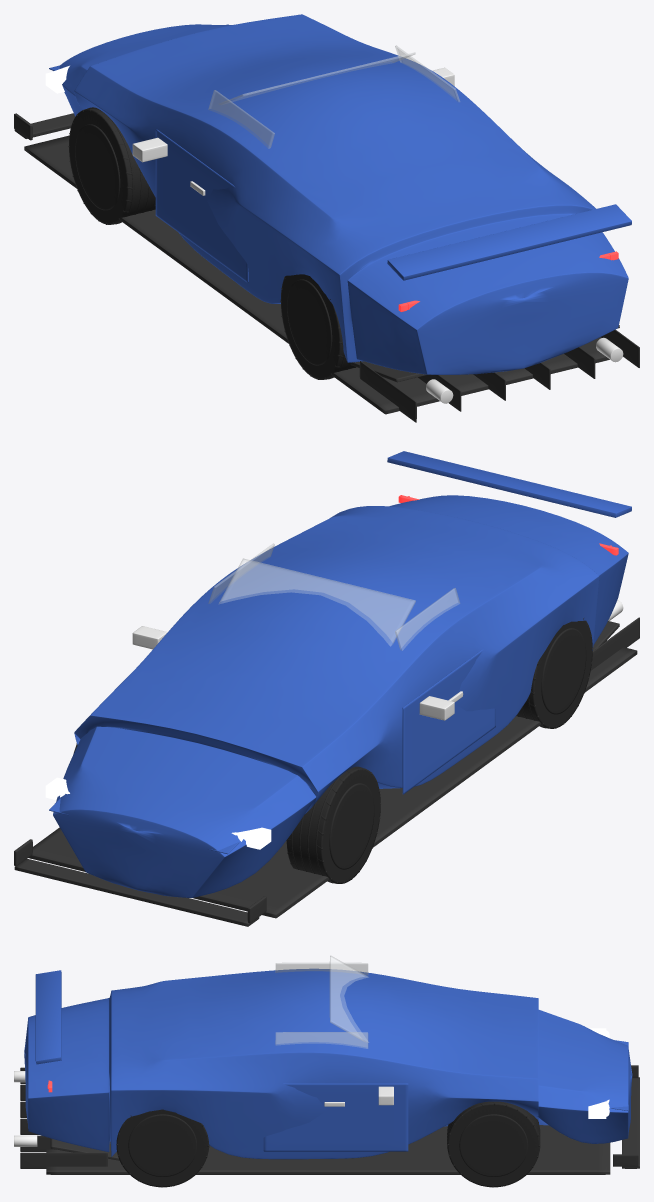
Rendered from vehicle.opt.glb.
3 renders of one model, top to bottom at view 1: azimuth 30°, elevation 25°; view 2: azimuth 150°, elevation 25°; view 3: azimuth 270°, elevation 25°, orthographic. The views are drawn at different scales.
Parts seen in each view (by area): view 1: BODY_MainShell, UNDERBODY_FlatFloor, WHEEL_FL_Tire, BODY_Door_FL, AERO_Cobra_DecklidWing, WHEEL_RL_Tire, GLASS_Greenhouse, JEWELRY_Hardware, AERO_FrontSplitter, JEWELRY_Cobra_DualExhaust; view 2: BODY_MainShell, UNDERBODY_FlatFloor, WHEEL_FL_Tire, GLASS_Greenhouse, BODY_Door_FL, WHEEL_RL_Tire, AERO_FrontSplitter, AERO_Cobra_DecklidWing, JEWELRY_Hardware, LIGHTING_Headlamps; view 3: BODY_MainShell, UNDERBODY_FlatFloor, BODY_Door_FR, WHEEL_FR_Tire, WHEEL_RR_Tire, GLASS_Greenhouse, AERO_Cobra_DecklidWing, AERO_FrontSplitter, LIGHTING_Headlamps, JEWELRY_Cobra_DualExhaust, JEWELRY_Hardware.
Part boxes in pixels (box(x1,y1,x2,y2)): BODY_MainShell: box(59, 14, 628, 374); UNDERBODY_FlatFloor: box(24, 135, 639, 422); WHEEL_FL_Tire: box(68, 107, 155, 224); BODY_Door_FL: box(155, 129, 248, 283); AERO_Cobra_DecklidWing: box(387, 204, 631, 280); WHEEL_RL_Tire: box(280, 274, 356, 379); GLASS_Greenhouse: box(208, 45, 459, 148); JEWELRY_Hardware: box(132, 67, 454, 195); AERO_FrontSplitter: box(14, 113, 75, 140); JEWELRY_Cobra_DualExhaust: box(426, 337, 623, 403); BODY_MainShell: box(53, 495, 628, 897); UNDERBODY_FlatFloor: box(28, 617, 639, 918); WHEEL_FL_Tire: box(286, 766, 380, 883); GLASS_Greenhouse: box(208, 543, 459, 650); BODY_Door_FL: box(402, 649, 495, 794); WHEEL_RL_Tire: box(516, 618, 592, 728); AERO_FrontSplitter: box(14, 839, 266, 926); AERO_Cobra_DecklidWing: box(387, 451, 631, 517); JEWELRY_Hardware: box(132, 626, 463, 720); LIGHTING_Headlamps: box(45, 777, 271, 849); BODY_MainShell: box(24, 968, 632, 1159); UNDERBODY_FlatFloor: box(20, 1067, 610, 1174); BODY_Door_FR: box(263, 1083, 408, 1151); WHEEL_FR_Tire: box(447, 1101, 540, 1187); WHEEL_RR_Tire: box(116, 1109, 209, 1187); GLASS_Greenhouse: box(275, 955, 368, 1048); AERO_Cobra_DecklidWing: box(35, 970, 61, 1064); AERO_FrontSplitter: box(613, 1065, 639, 1168); LIGHTING_Headlamps: box(588, 1028, 609, 1118); JEWELRY_Cobra_DualExhaust: box(14, 1071, 37, 1146); JEWELRY_Hardware: box(324, 1086, 393, 1106).
Size of what is drawn, in the model's own units: 2.19 by 1.3 by 4.86.
